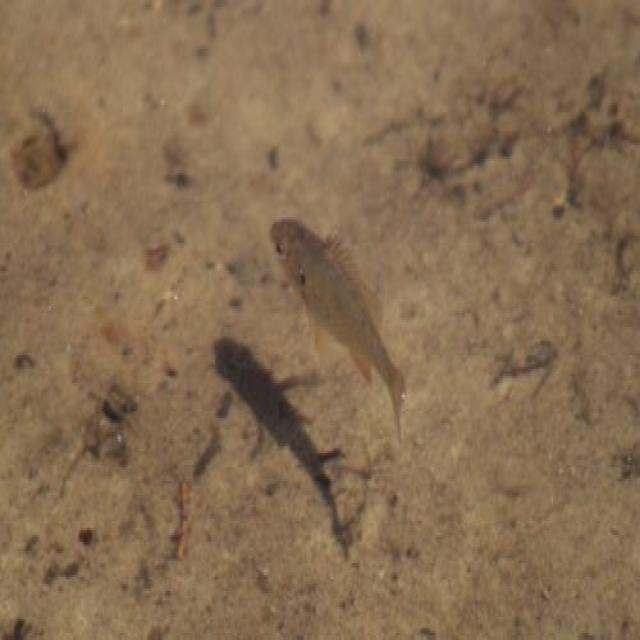Gunes Levregi: (269, 212, 413, 450)
